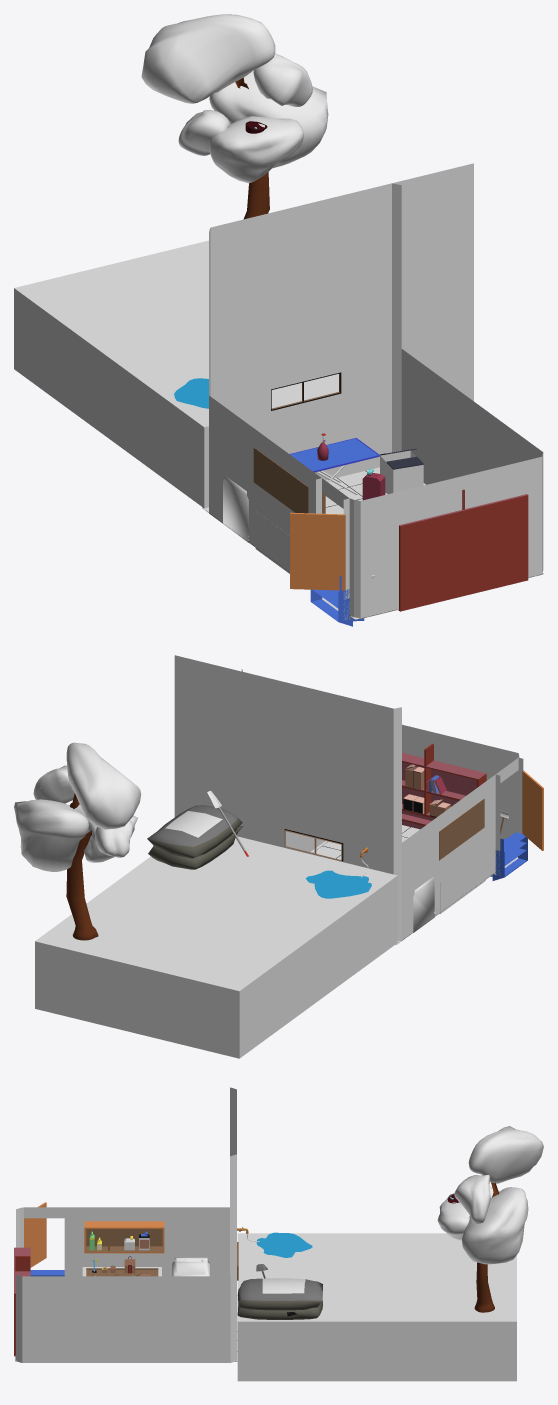
File: BasementLowpoly.fbx
3 renders of one model, top to bottom at view 1: azimuth 30°, elevation 25°; view 2: azimuth 150°, elevation 25°; view 3: azimuth 270°, elevation 25°, orthographic. The views are drawn at different scales.
Visible parts, largest first — view 1: Cube, Cube.009, Cylinder.002, Cube.002, Cube.013, Cube.005, Cube.006, Cube.001, Cube.004, Cube.008, Circle; view 2: Cube.009, Cube, Cylinder.002, Cube.002, Cube.012, Cube.001, Cube.013, Circle, Cube.011, Cube.004, Cube.008; view 3: Cube.009, Cube, Cylinder.002, Cube.012, Cube.013, Circle, Cube.001, Cube.011, Cube.004, Cube.002.
Part boxes in pixels (x1,y1,x2,y2): Cube: [209, 163, 543, 626]; Cube.009: [14, 240, 338, 508]; Cylinder.002: [141, 14, 328, 219]; Cube.002: [398, 489, 528, 611]; Cube.013: [290, 512, 345, 590]; Cube.005: [289, 437, 379, 494]; Cube.006: [380, 448, 423, 493]; Cube.001: [255, 511, 289, 573]; Cube.004: [223, 475, 249, 542]; Cube.008: [202, 467, 543, 619]; Circle: [174, 378, 208, 408]; Cube.009: [35, 836, 397, 1058]; Cube: [174, 655, 527, 941]; Cylinder.002: [14, 742, 141, 940]; Cube.002: [402, 743, 486, 829]; Cube.012: [147, 805, 242, 858]; Cube.001: [439, 849, 485, 913]; Cube.013: [522, 770, 543, 850]; Circle: [305, 870, 371, 898]; Cube.011: [148, 826, 243, 869]; Cube.004: [413, 877, 435, 932]; Cube.008: [313, 825, 495, 944]; Cube.009: [237, 1233, 516, 1381]; Cube: [16, 1087, 238, 1362]; Cylinder.002: [437, 1126, 543, 1312]; Cube.012: [237, 1278, 322, 1310]; Cube.013: [24, 1202, 46, 1267]; Circle: [256, 1232, 312, 1257]; Cube.001: [82, 1256, 161, 1276]; Cube.011: [237, 1289, 322, 1319]; Cube.004: [172, 1257, 209, 1276]; Cube.002: [14, 1247, 30, 1356].
Bounding box in the file's own units: 10752 × 9979 × 19977.
